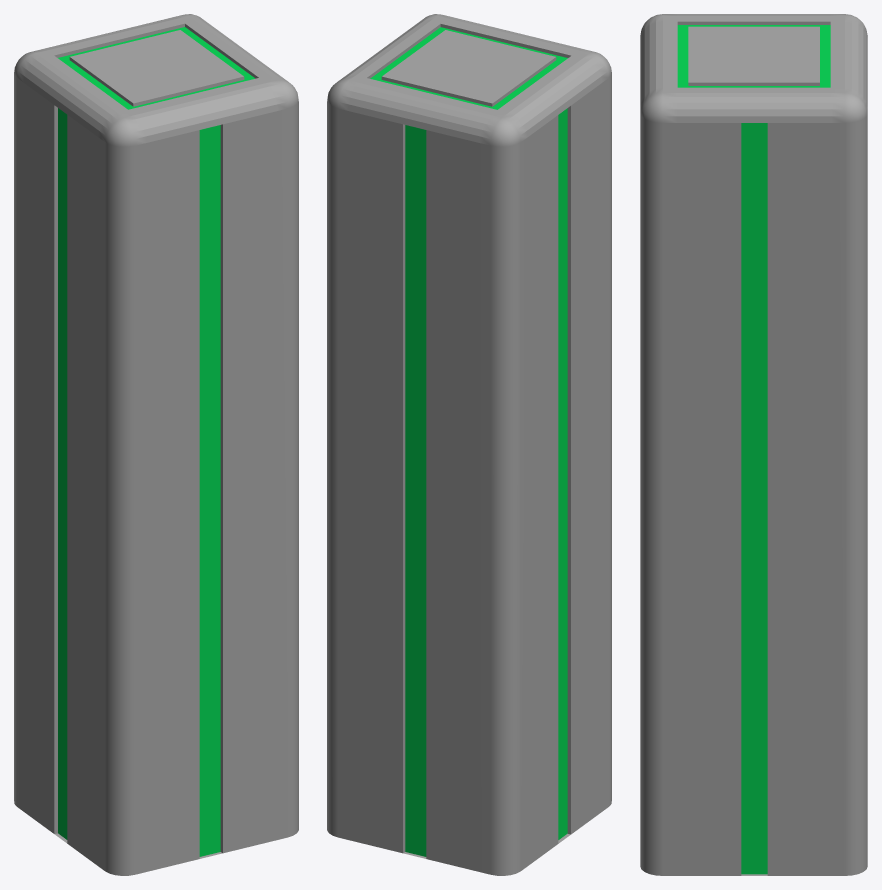
The model's file is PyramidStand.fbx.
The picture shows the model from 3 angles, left to right: view 1: azimuth 30°, elevation 25°; view 2: azimuth 150°, elevation 25°; view 3: azimuth 270°, elevation 25°; orthographic projection. The views are drawn at different scales.
Parts seen in each view (by area): view 1: pCube1; view 2: pCube1; view 3: pCube1.
Boxes of the visible parts, x1,y1,x2,y2 form: pCube1: [14, 14, 298, 875]; pCube1: [327, 14, 611, 875]; pCube1: [640, 14, 867, 875].
Size of the model in its own units: 0.2 by 0.75 by 0.2.
